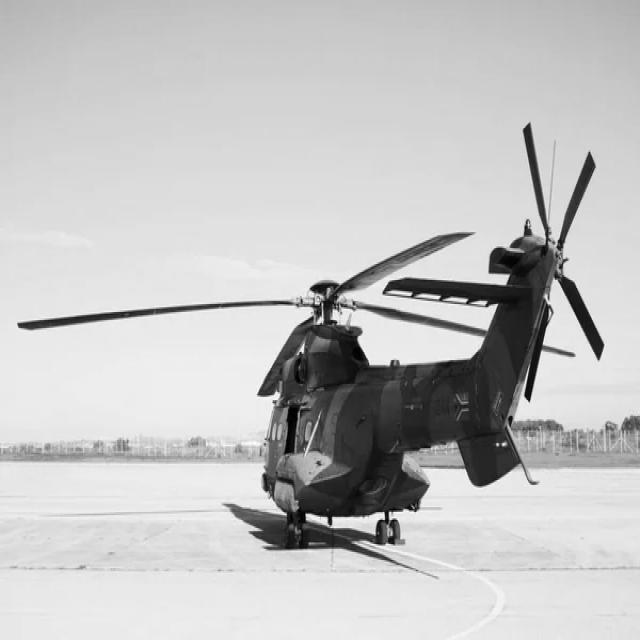Helicopter: (19, 159, 594, 548)
